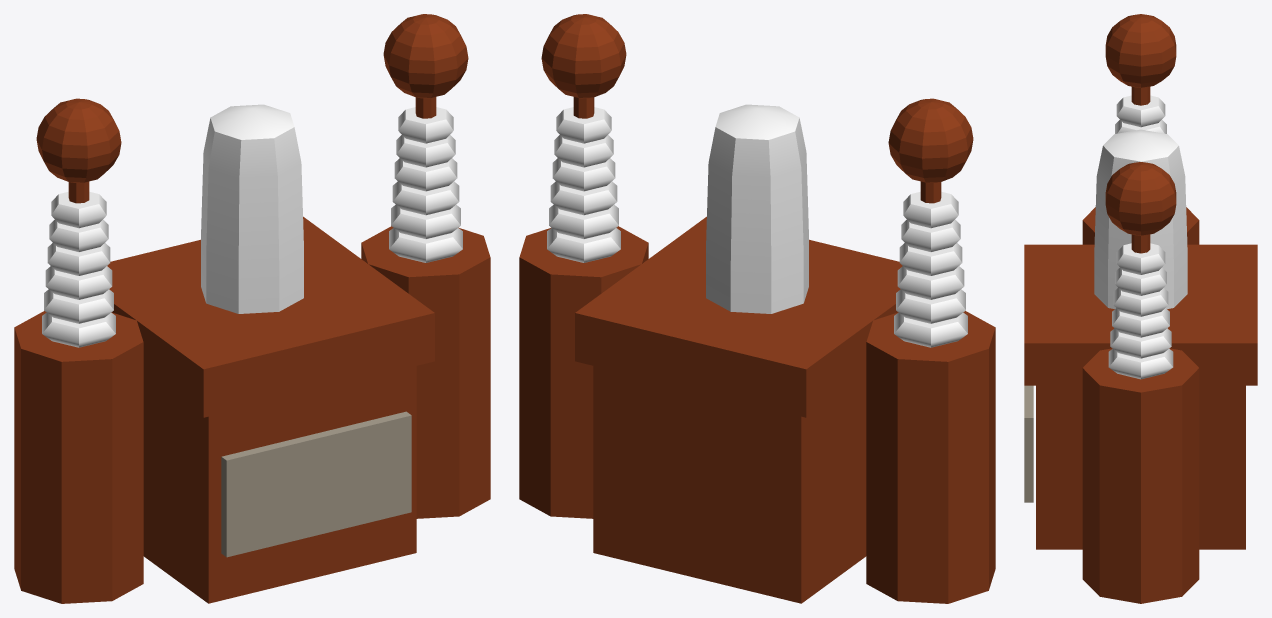
Rendered from dynamo.fbx.
3 views of the same model, side by side, from view 1: azimuth 30°, elevation 25°; view 2: azimuth 150°, elevation 25°; view 3: azimuth 270°, elevation 25° (orthographic). The views are drawn at different scales.
Parts seen in each view (by area): view 1: panel, electric_sphere2, electric_sphere3; view 2: panel, electric_sphere2, electric_sphere3; view 3: panel, electric_sphere3, electric_sphere2.
Part boxes in pixels (box(x1,y1,x2,y2)): panel: box(107, 104, 434, 603); electric_sphere2: box(14, 98, 143, 603); electric_sphere3: box(361, 14, 490, 518); panel: box(575, 104, 902, 603); electric_sphere2: box(866, 98, 995, 603); electric_sphere3: box(519, 14, 648, 518); panel: box(1024, 129, 1257, 549); electric_sphere3: box(1082, 162, 1199, 603); electric_sphere2: box(1082, 14, 1199, 244).
Size of the model in its own units: 10 by 9.8 by 5.
